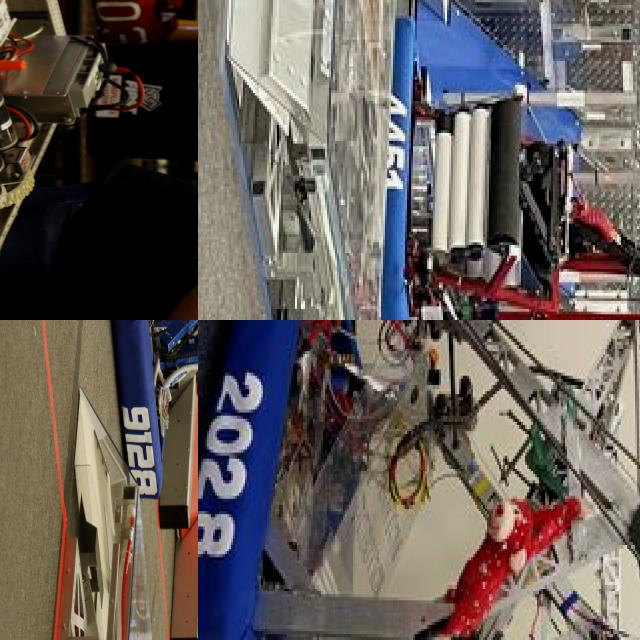FRC-Robots: (198, 320, 640, 640), (371, 2, 640, 320), (0, 0, 180, 320), (91, 320, 198, 557)
